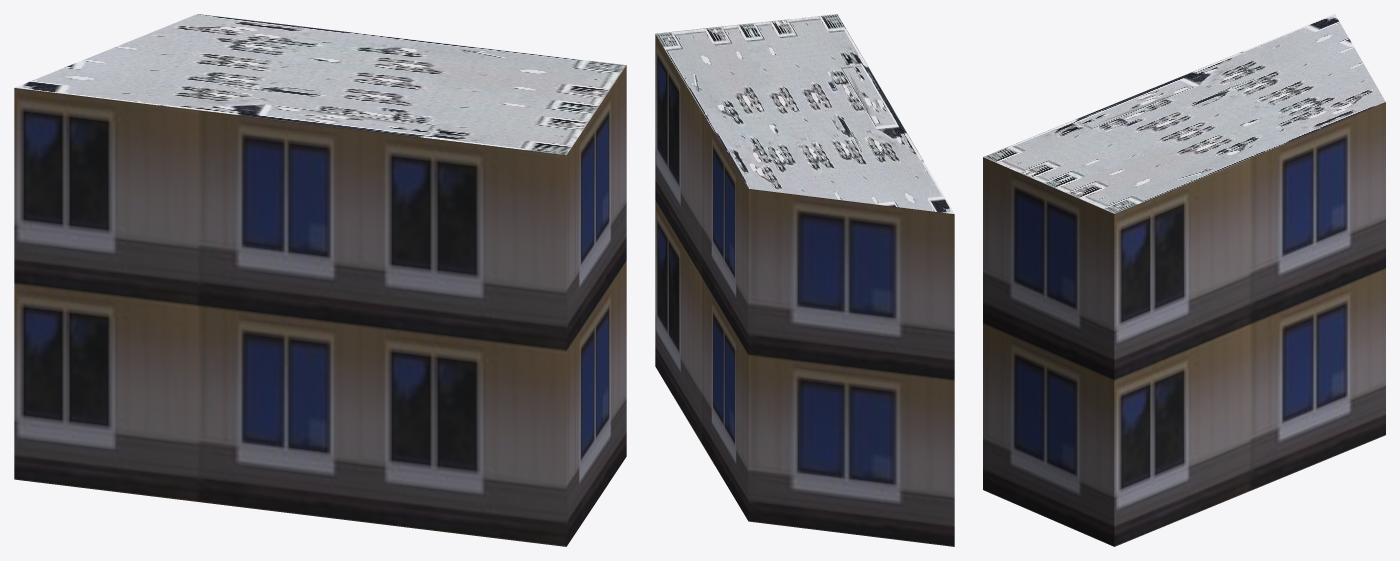
File: ResTex__3478.fbx
3 views of the same model, side by side, from view 1: azimuth 30°, elevation 25°; view 2: azimuth 150°, elevation 25°; view 3: azimuth 270°, elevation 25° (orthographic). The views are drawn at different scales.
Visible parts, largest first — view 1: CityEngineMaterial_5_m, CityEngineMaterial_m; view 2: CityEngineMaterial_5_m, CityEngineMaterial_m; view 3: CityEngineMaterial_5_m, CityEngineMaterial_m.
Part boxes in pixels (x1,y1,x2,y2): CityEngineMaterial_5_m: (14,65,626,546); CityEngineMaterial_m: (15,14,626,155); CityEngineMaterial_5_m: (655,34,954,546); CityEngineMaterial_m: (655,14,954,214); CityEngineMaterial_5_m: (983,102,1385,546); CityEngineMaterial_m: (983,14,1385,213).
Bounding box in the file's own units: 7.73 × 6 × 6.58.
Materials: 2 (2 with a texture image).
